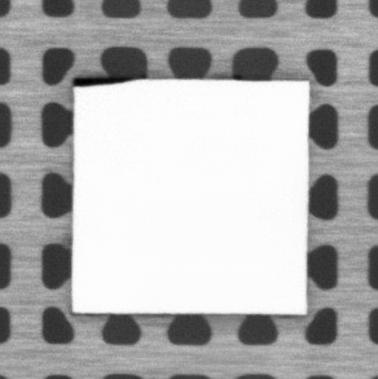DIE_BROKEN: (72, 75, 139, 88)
